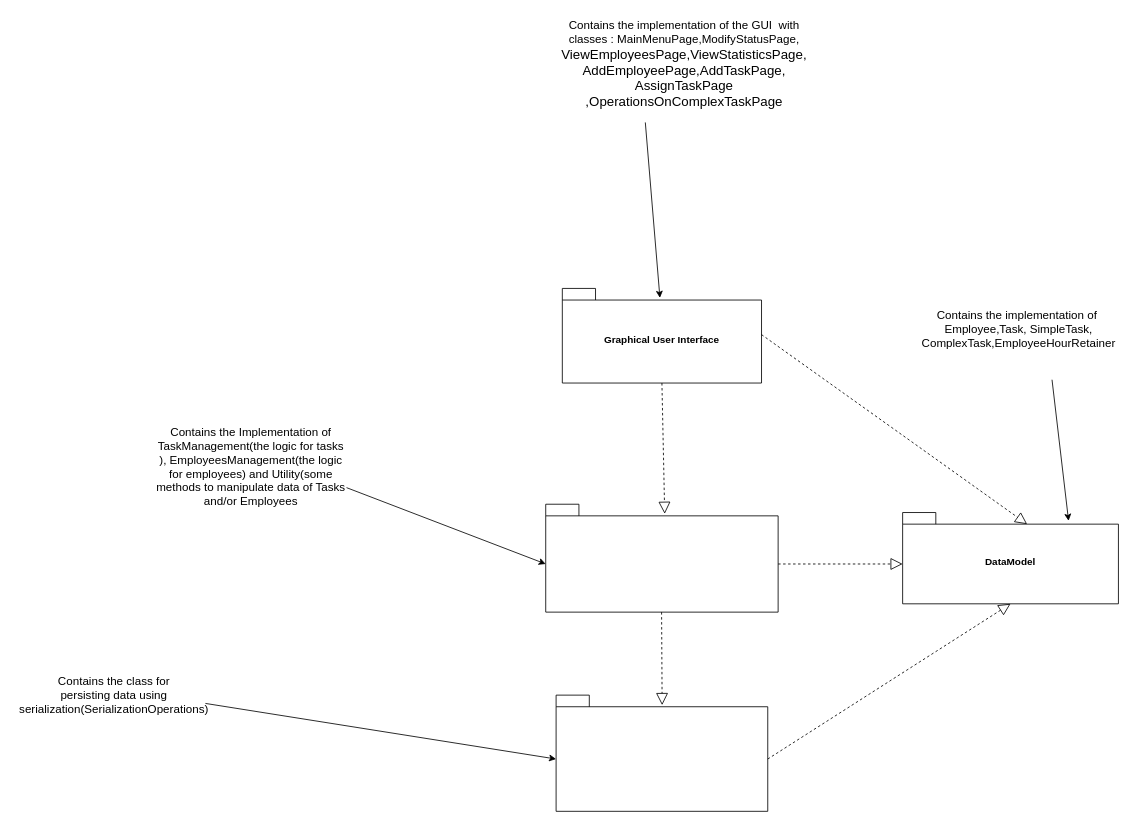
Some shapes in this 1133 by 826 pixel diagram are drawn without their labels. The shapes that lost their labels are listed below. From the top down, each one's box as (x1, y1, x2, y2) in pixels, then its label:
(545, 503, 778, 612): Business Logic
(555, 694, 768, 811): DataAccess
